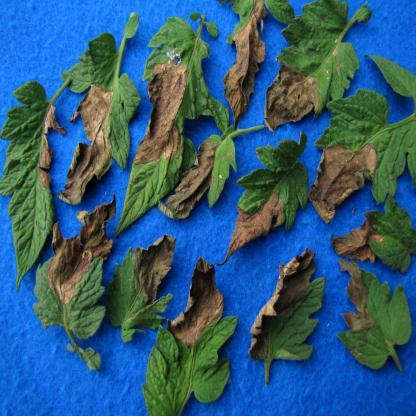Tomato leaf mosaic virus: (122, 18, 206, 227), (138, 260, 236, 416), (60, 16, 138, 209), (33, 196, 120, 368), (263, 3, 368, 128), (1, 73, 63, 280), (244, 244, 327, 374), (226, 137, 313, 249), (96, 232, 187, 336), (157, 129, 251, 223), (338, 258, 410, 380), (329, 207, 416, 266)
